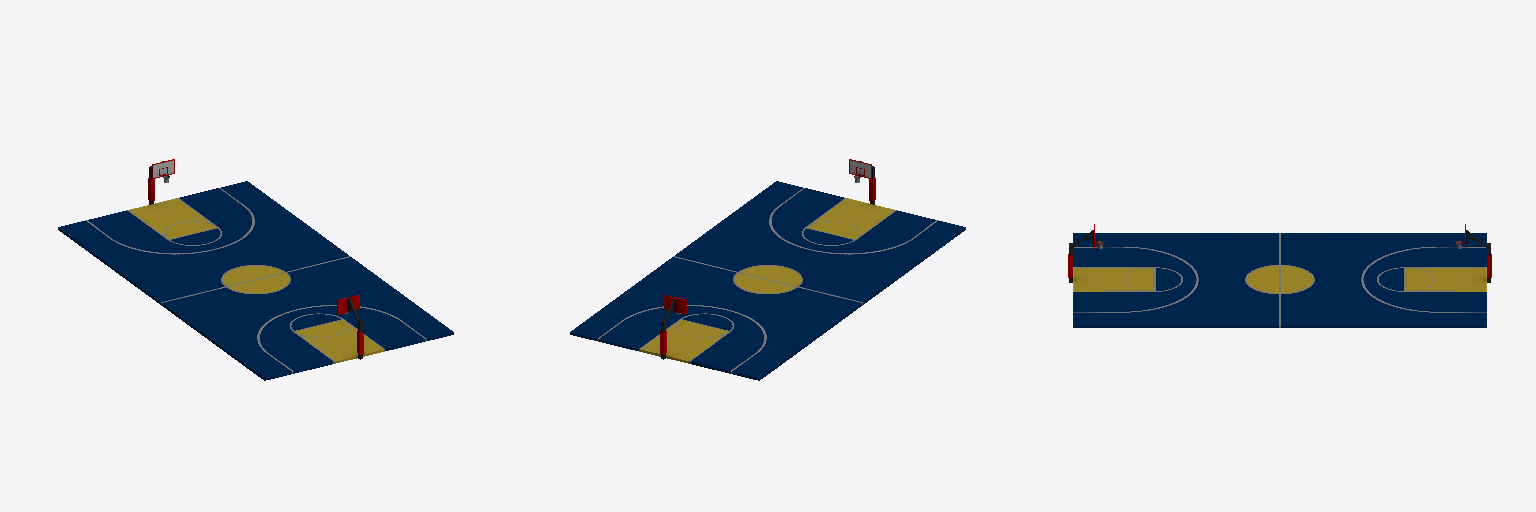
3 renders of one model, left to right at view 1: azimuth 30°, elevation 25°; view 2: azimuth 150°, elevation 25°; view 3: azimuth 270°, elevation 25°, orthographic.
Visible parts, largest first — view 1: BasketBallCourt_Mesh; view 2: BasketBallCourt_Mesh; view 3: BasketBallCourt_Mesh.
Boxes of the visible parts, x1,y1,x2,y2 form: BasketBallCourt_Mesh: [58, 159, 453, 380]; BasketBallCourt_Mesh: [570, 159, 965, 380]; BasketBallCourt_Mesh: [1068, 224, 1491, 327].
Bounding box in the file's own units: 15.2 × 4.03 × 29.4.
Materials: 1 (1 with a texture image).